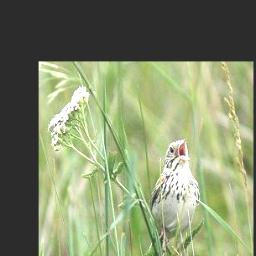Sparrow: (140, 138, 201, 256)
